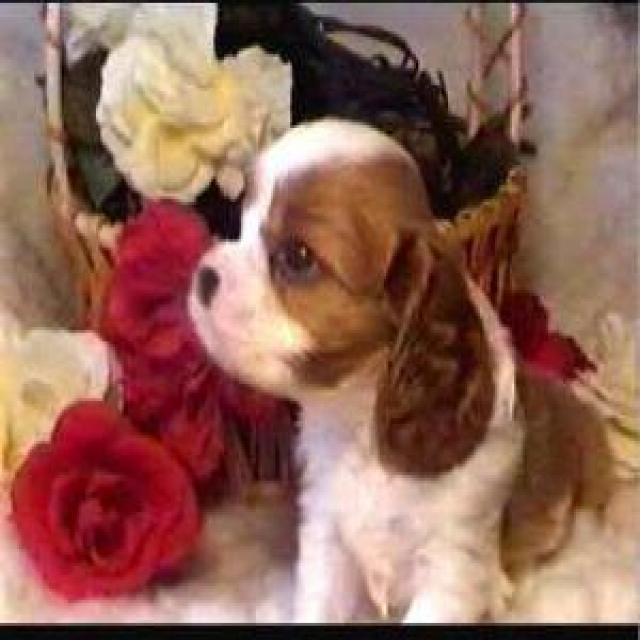blenheim_spaniel: (186, 108, 618, 623)
